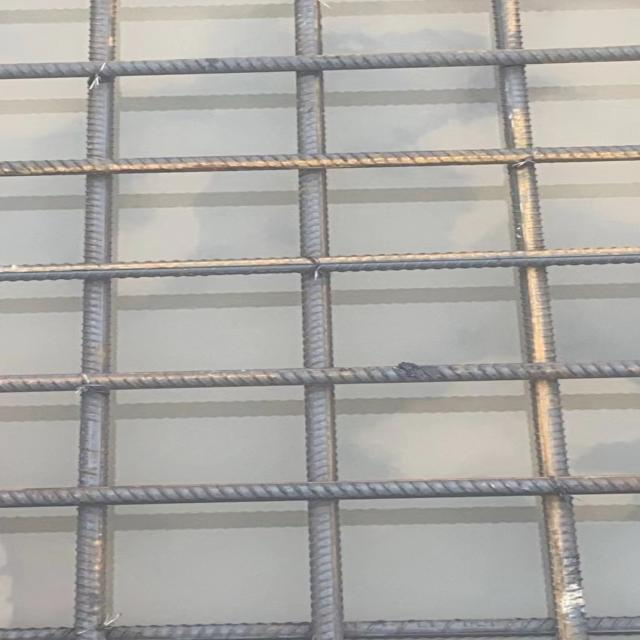ribbed bar: (491, 0, 590, 639), (292, 0, 344, 639), (68, 0, 116, 639), (0, 244, 638, 281), (0, 43, 638, 78), (0, 143, 638, 175), (0, 360, 638, 392), (0, 475, 638, 506), (0, 615, 638, 639)
